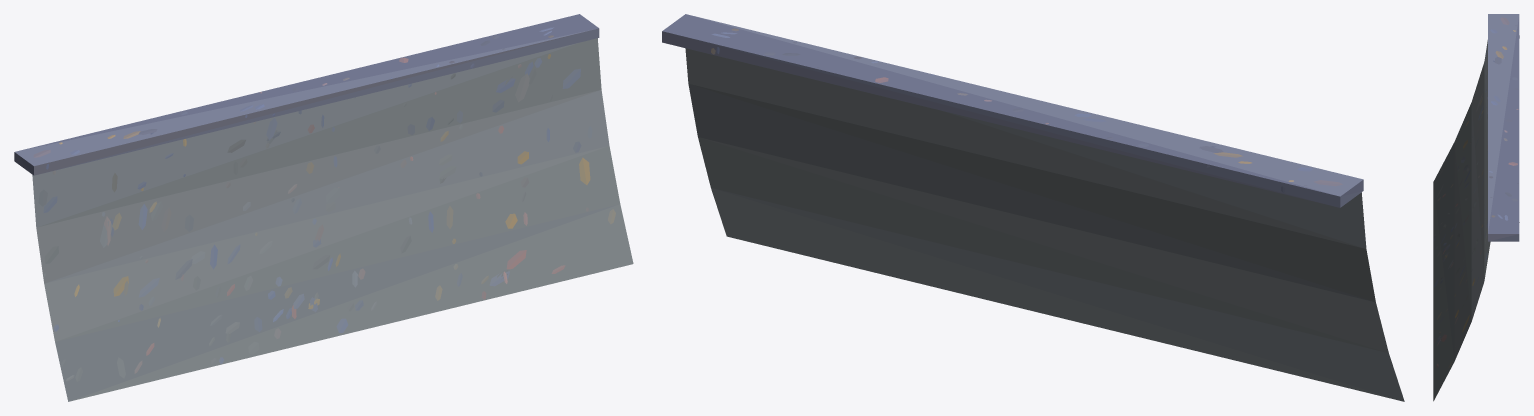
File: HK_Ishigaki_Low.glb
3 renders of one model, left to right at view 1: azimuth 30°, elevation 25°; view 2: azimuth 150°, elevation 25°; view 3: azimuth 270°, elevation 25°, orthographic. The views are drawn at different scales.
Parts seen in each view (by area): view 1: HK_Ishigaki_Low; view 2: HK_Ishigaki_Low; view 3: HK_Ishigaki_Low.
Boxes of the visible parts, x1,y1,x2,y2 form: HK_Ishigaki_Low: (14,14,633,401); HK_Ishigaki_Low: (662,14,1404,401); HK_Ishigaki_Low: (1433,14,1519,401).
Bounding box in the file's own units: 10 × 3.57 × 1.66.
